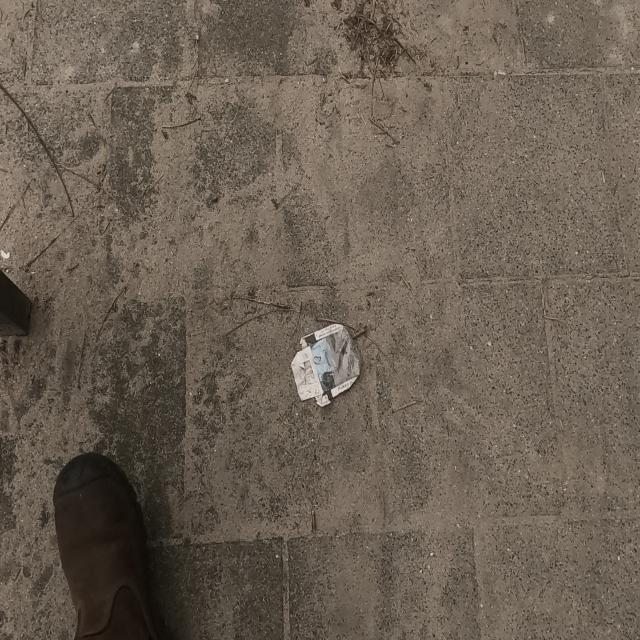Paper: (289, 322, 362, 408)
